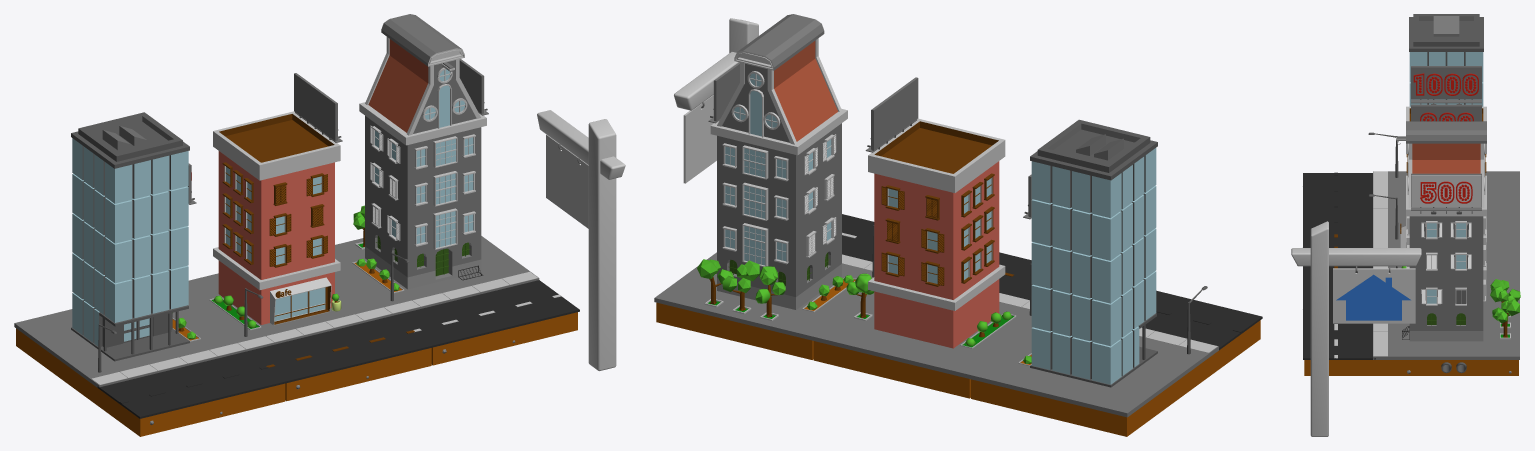
The model's file is cities_bt.fbx.
3 views of the same model, side by side, from view 1: azimuth 30°, elevation 25°; view 2: azimuth 150°, elevation 25°; view 3: azimuth 270°, elevation 25° (orthographic). The views are drawn at different scales.
Visible parts, largest first — view 1: YOL_1, BINA_1, CAFE_1, Cube_2_2, Cube_2, Cube_1_3; view 2: YOL_1, BINA_1, CAFE_1, Cube_2, Cube_1_3, Cube_2_2; view 3: BINA_1, YOL_1, CAFE_1, Cube_2_2, Cube_2, Cube_1_3, Cube, Cube_1_2.
Boxes of the visible parts, bbox=[...] form: YOL_1: bbox=[14, 112, 287, 436]; BINA_1: bbox=[335, 14, 579, 365]; CAFE_1: bbox=[188, 73, 433, 401]; Cube_2_2: bbox=[588, 119, 616, 371]; Cube_2: bbox=[546, 134, 588, 228]; Cube_1_3: bbox=[537, 110, 625, 179]; YOL_1: bbox=[969, 119, 1262, 436]; BINA_1: bbox=[654, 14, 874, 359]; CAFE_1: bbox=[811, 77, 1032, 398]; Cube_2: bbox=[683, 95, 716, 183]; Cube_1_3: bbox=[674, 52, 738, 110]; Cube_2_2: bbox=[729, 18, 758, 52]; BINA_1: bbox=[1303, 121, 1520, 375]; YOL_1: bbox=[1303, 14, 1519, 234]; CAFE_1: bbox=[1303, 104, 1519, 296]; Cube_2_2: bbox=[1310, 221, 1328, 436]; Cube_2: bbox=[1333, 268, 1415, 323]; Cube_1_3: bbox=[1291, 248, 1421, 266]; Cube: bbox=[1346, 300, 1401, 320]; Cube_1_2: bbox=[1336, 274, 1410, 300].
Bounding box in the file's own units: 1307 × 790 × 625.
